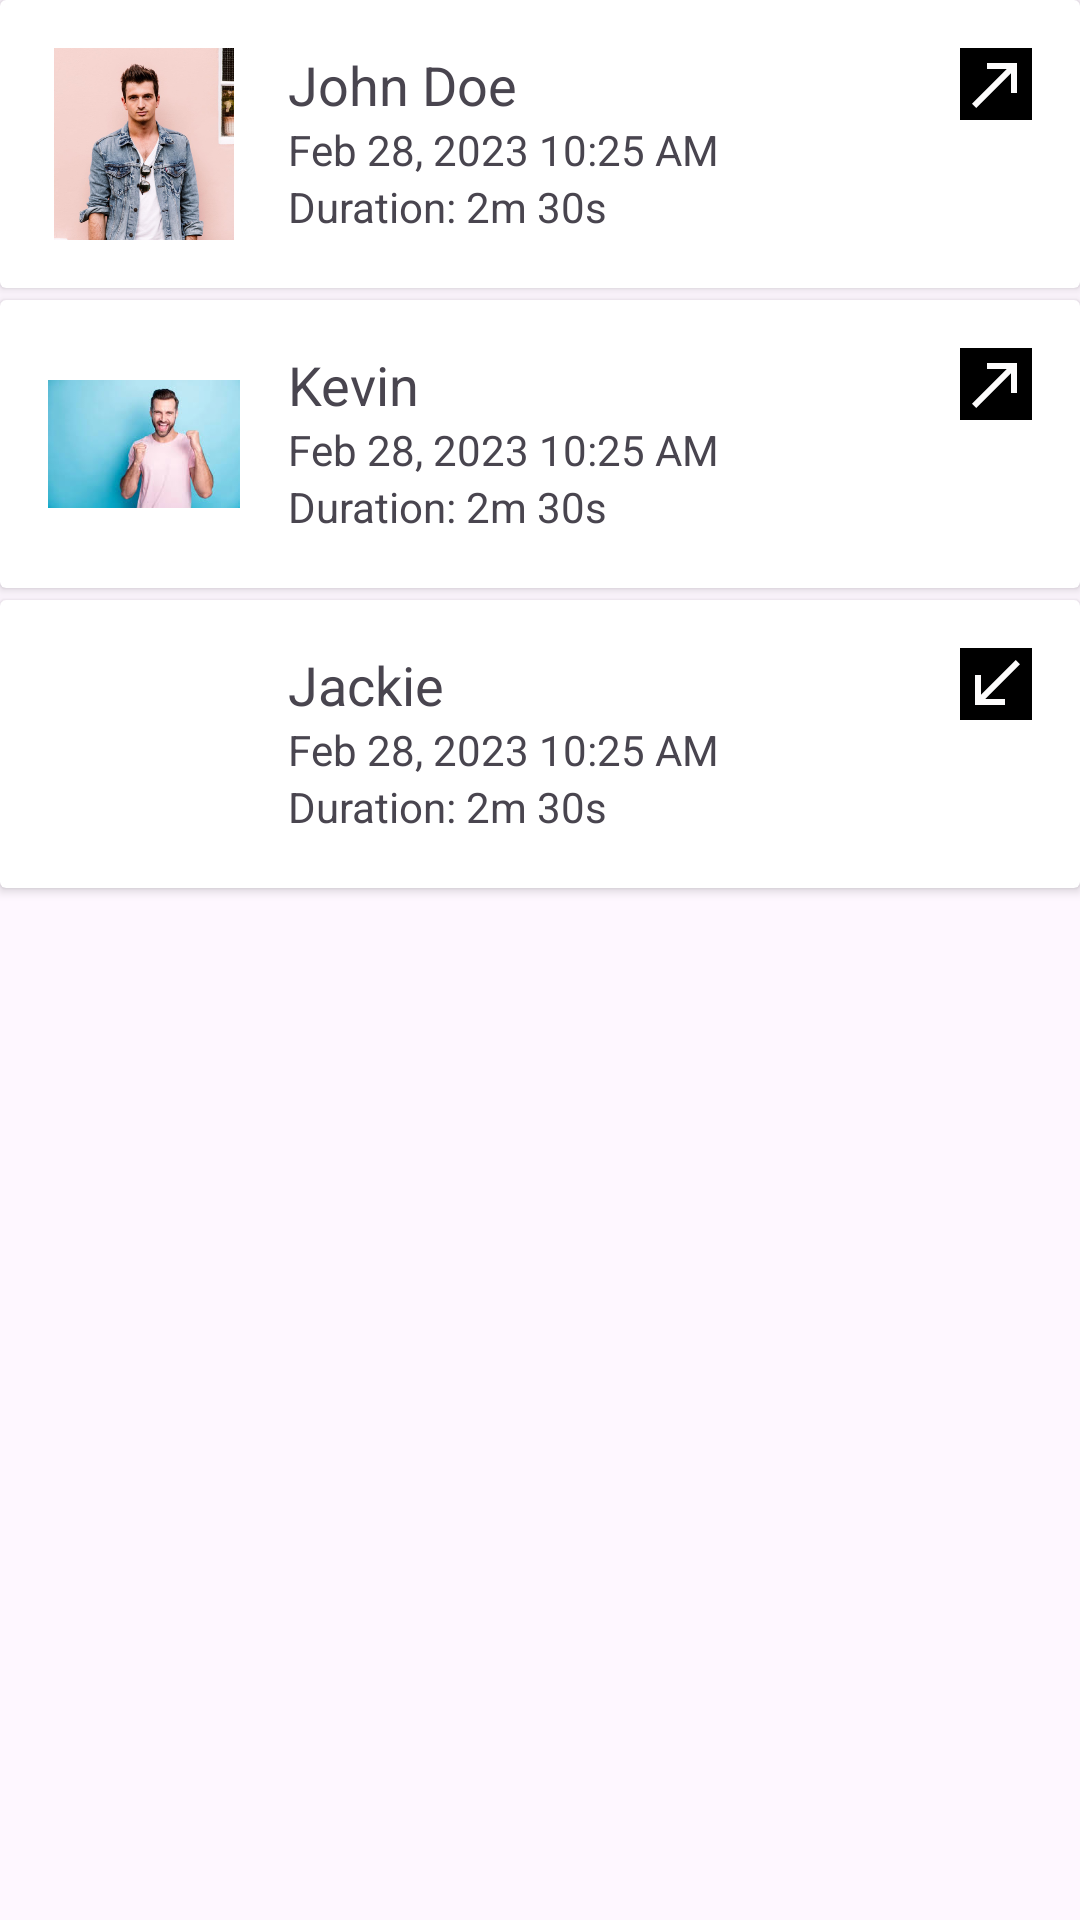

Named icons in this screenshot (1080px×1920px) and their bounding boxes, (x1, y1, x2, y2):
friend: (48, 380, 240, 508)
guy pic: (54, 48, 234, 240)
incoming call: (960, 648, 1032, 720)
outgoing call: (960, 48, 1032, 120), (960, 348, 1032, 420)
